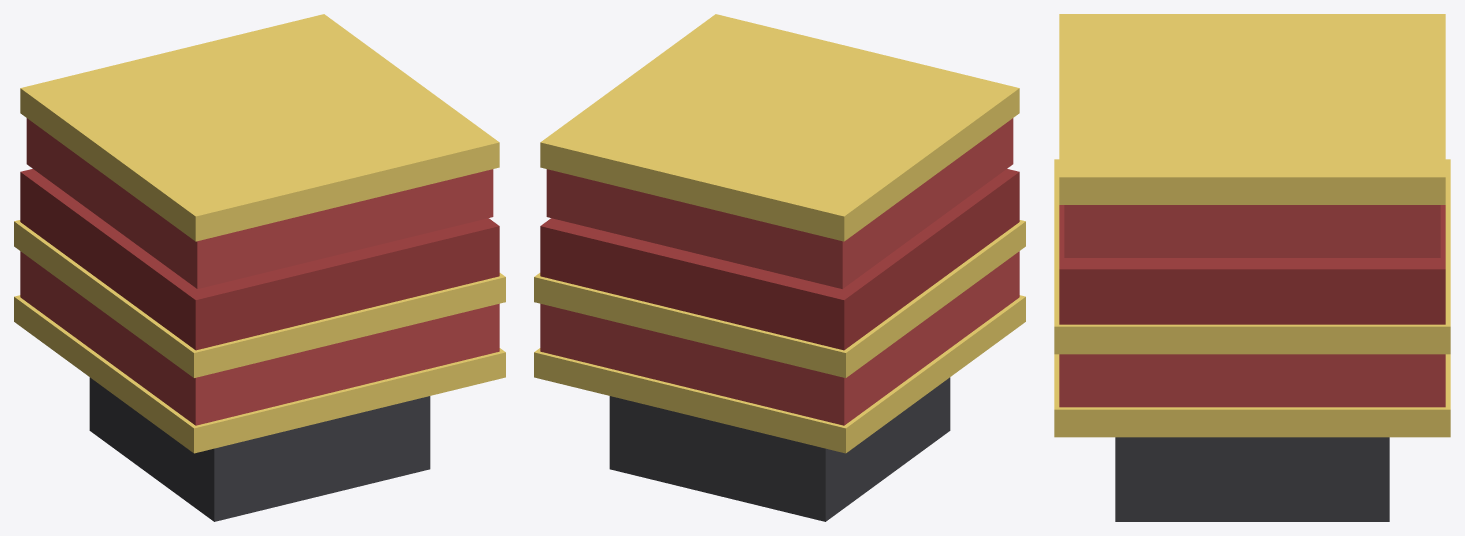
Rendered from samurai_manga_sup.glb.
3 renders of one model, left to right at view 1: azimuth 30°, elevation 25°; view 2: azimuth 150°, elevation 25°; view 3: azimuth 270°, elevation 25°, orthographic. The views are drawn at different scales.
Parts seen in each view (by area): view 1: samurai_manga_sup; view 2: samurai_manga_sup; view 3: samurai_manga_sup.
Boxes of the visible parts, box(x1,y1,x2,y2) form: samurai_manga_sup: box(14, 14, 505, 521); samurai_manga_sup: box(534, 14, 1025, 521); samurai_manga_sup: box(1054, 14, 1450, 521).
Size of the model in its own units: 0.39 by 0.4 by 0.39.
